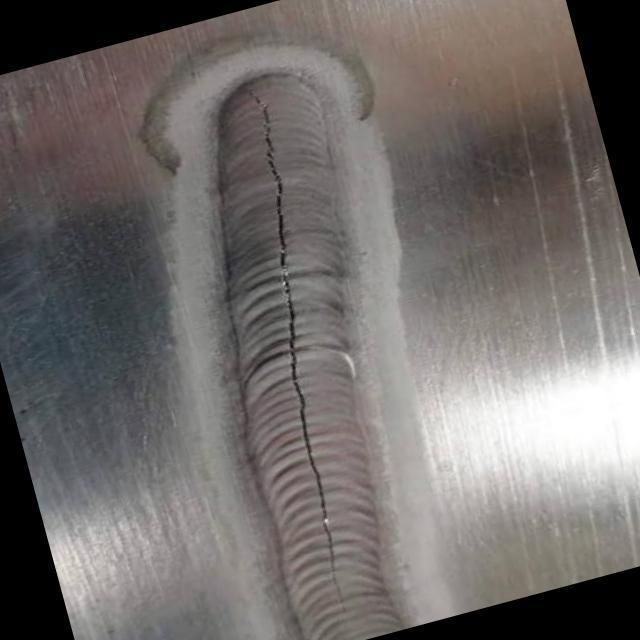defect: (234, 84, 351, 621)
